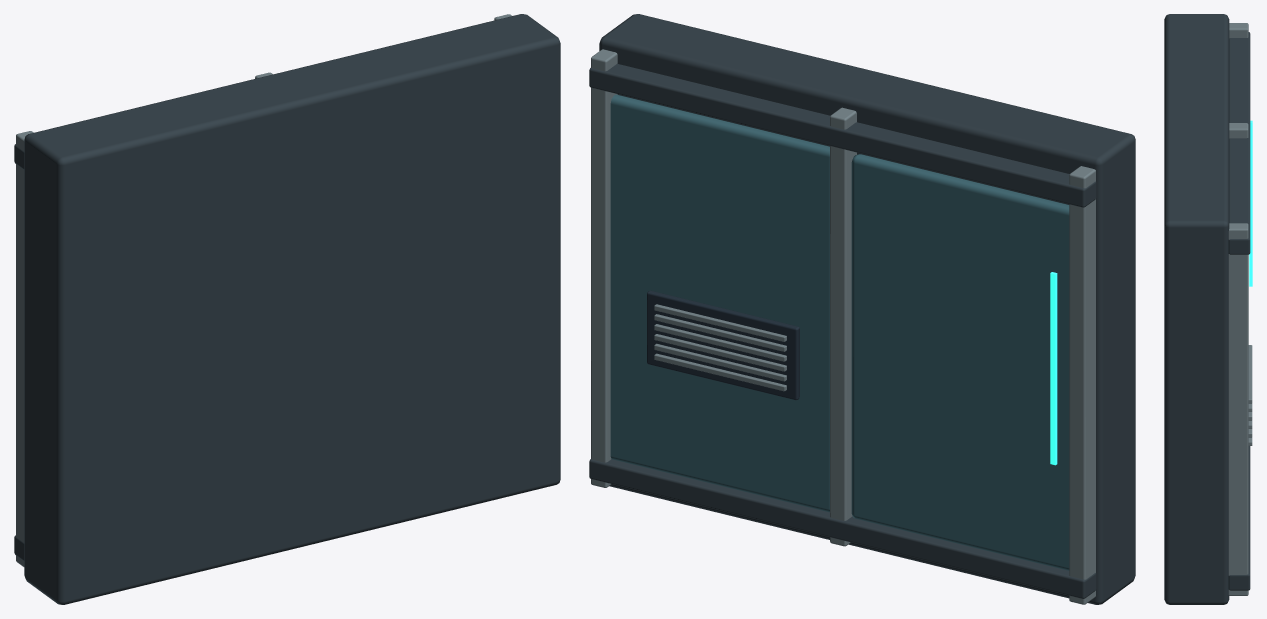
The model's file is bulkhead-module.glb.
3 views of the same model, side by side, from view 1: azimuth 30°, elevation 25°; view 2: azimuth 150°, elevation 25°; view 3: azimuth 270°, elevation 25° (orthographic). The views are drawn at different scales.
Parts seen in each view (by area): view 1: Bulkhead module 4m / Gunmetal, Bulkhead module 4m / Brushed titanium; view 2: Bulkhead module 4m / Port teal paint, Bulkhead module 4m / Gunmetal, Bulkhead module 4m / Brushed titanium, Bulkhead module 4m / Graphite polymer, Bulkhead module 4m / Phase emitter; view 3: Bulkhead module 4m / Gunmetal, Bulkhead module 4m / Brushed titanium, Bulkhead module 4m / Phase emitter.
Part boxes in pixels (<box>): Bulkhead module 4m / Gunmetal: <box>14,14,560,604</box>; Bulkhead module 4m / Brushed titanium: <box>16,14,511,566</box>; Bulkhead module 4m / Port teal paint: <box>610,94,1069,570</box>; Bulkhead module 4m / Gunmetal: <box>589,14,1135,604</box>; Bulkhead module 4m / Brushed titanium: <box>591,49,1095,604</box>; Bulkhead module 4m / Graphite polymer: <box>647,290,799,400</box>; Bulkhead module 4m / Phase emitter: <box>1050,272,1057,465</box>; Bulkhead module 4m / Gunmetal: <box>1164,14,1250,604</box>; Bulkhead module 4m / Brushed titanium: <box>1228,23,1252,595</box>; Bulkhead module 4m / Phase emitter: <box>1249,120,1252,286</box>.
Size of the model in its own units: 4 by 3.4 by 0.707.
